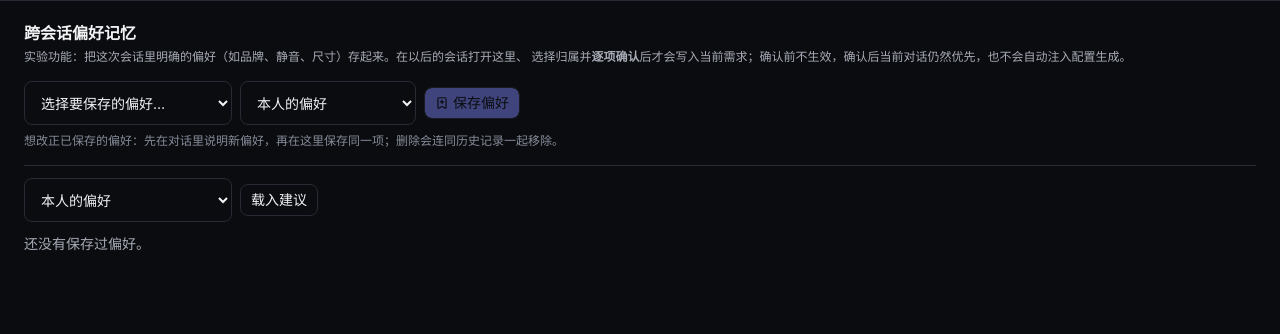
Test case: PreferencesPanel 召回确认 › 建议逐项展示 must/prefer 强度与原话日期
Click the button "载入建议" at x=279, y=200, box [240,184,318,216]
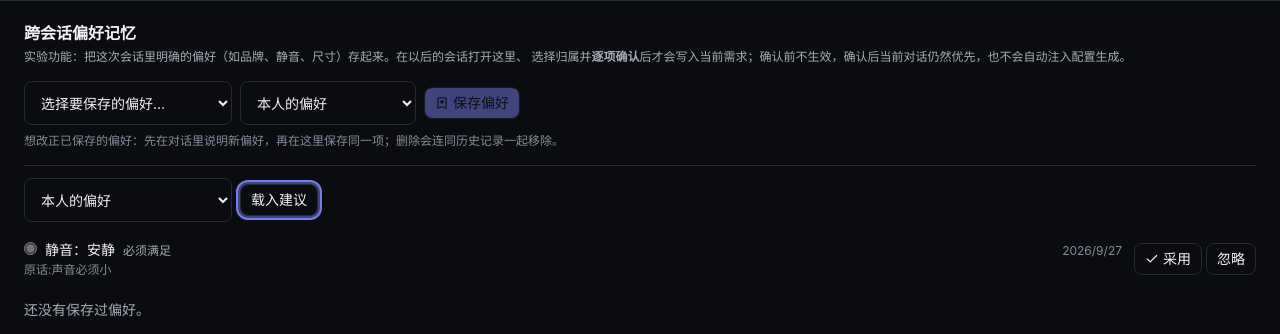
Result: the text titled "声音必须小" is shown at [24,262,112,277]
Result: the text "必须满足" is shown at [123,243,171,259]
Result: the radio button labelled "静音：安静 必须满足" is disabled at [24,242,37,255]
